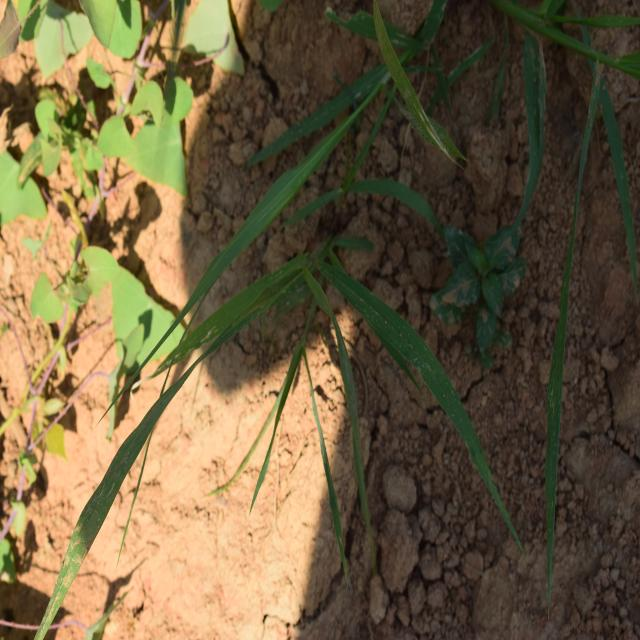green_foxtail: (172, 216, 489, 521)
